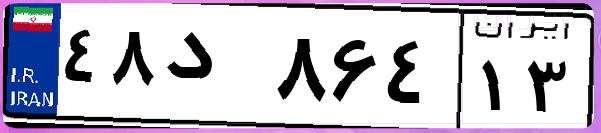1: (475, 38, 525, 113)
3: (525, 38, 570, 115)
4: (385, 28, 445, 110), (57, 26, 110, 100)
6: (330, 28, 385, 110)
8: (270, 28, 330, 110), (110, 28, 158, 98)
د: (158, 20, 270, 120)
